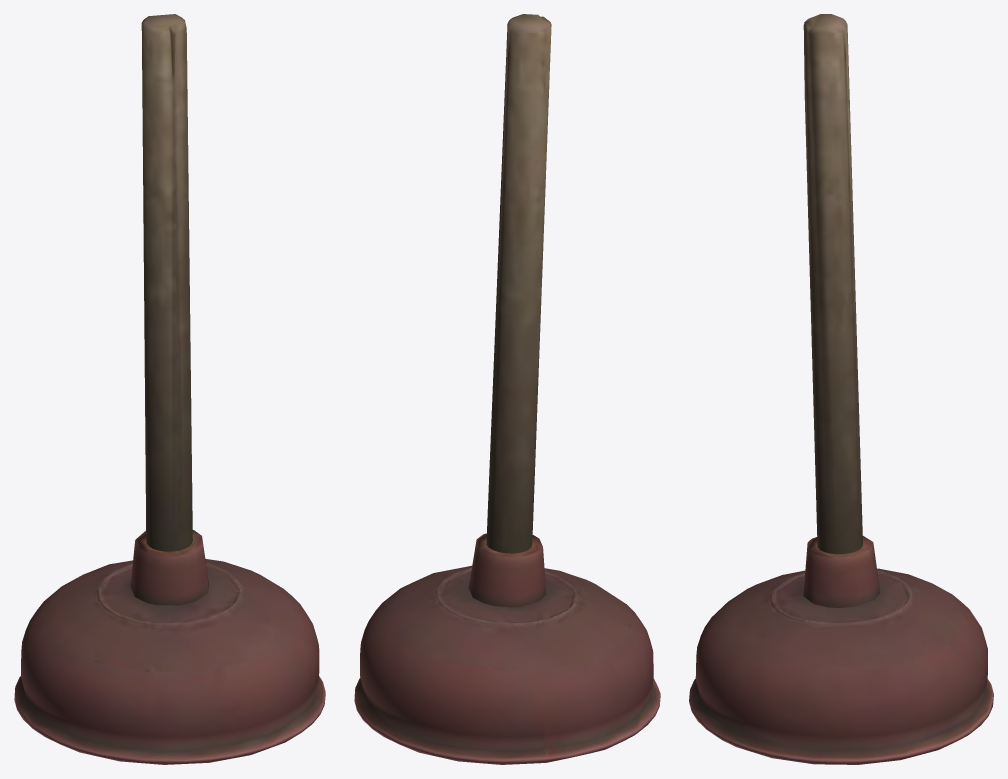
The model's file is cc0_plunger.glb.
3 renders of one model, left to right at view 1: azimuth 30°, elevation 25°; view 2: azimuth 150°, elevation 25°; view 3: azimuth 270°, elevation 25°, orthographic. The views are drawn at different scales.
Parts seen in each view (by area): view 1: plunger; view 2: plunger; view 3: plunger.
Part boxes in pixels (x1,y1,x2,y2): plunger: (14,14,325,764); plunger: (354,14,660,764); plunger: (689,14,993,764).
Bounding box in the file's own units: 0.172 × 0.4206 × 0.1721.
1 material, 1 textured.
